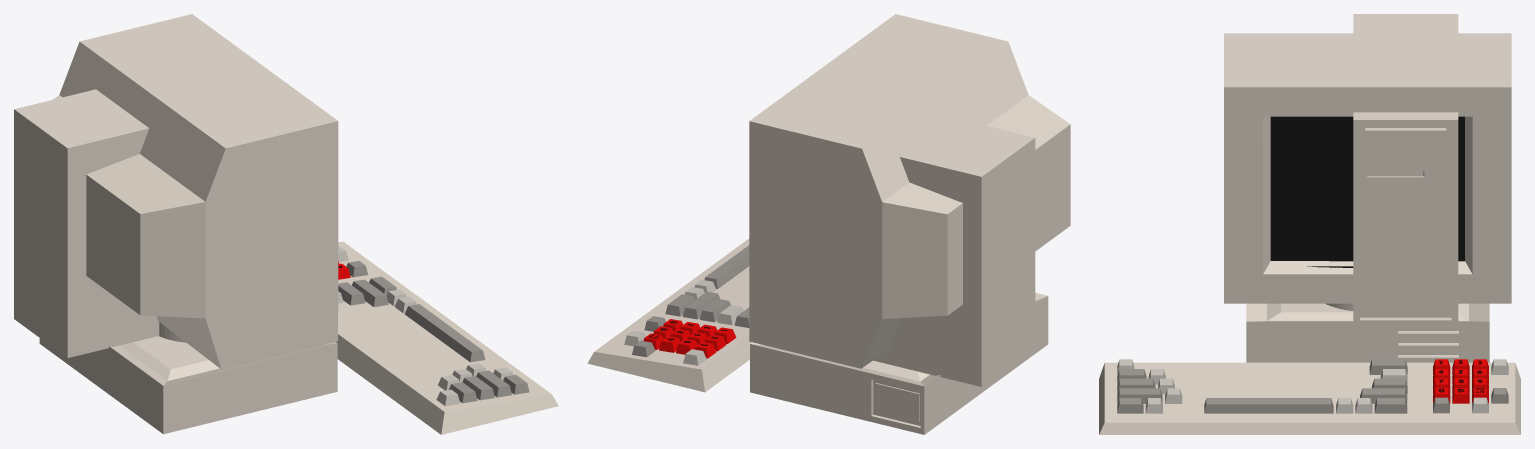
3 views of the same model, side by side, from view 1: azimuth 30°, elevation 25°; view 2: azimuth 150°, elevation 25°; view 3: azimuth 270°, elevation 25° (orthographic).
Visible parts, largest first — view 1: computerscreen, Cube.001, Cube, toprowkeys.008, space, key.004; view 2: computerscreen, Cube.001, Cube, toprowkeys.008, numpad, space, key.004; view 3: computerscreen, Cube.001, toprowkeys.008, Cube, numpad, space, toprowkeys.007, key.004, key.008, key.003, key.007, key.005.
Boxes of the visible parts, x1,y1,x2,y2 form: computerscreen: (53,14,338,369); Cube.001: (14,89,159,358); Cube: (39,336,337,434); toprowkeys.008: (335,241,558,434); space: (404,304,485,362); key.004: (352,279,388,307); computerscreen: (749,14,1070,368); Cube.001: (873,117,1035,386); Cube: (750,292,1048,434); toprowkeys.008: (587,238,751,392); numpad: (643,319,736,358); space: (704,245,749,288); key.004: (682,291,720,319); computerscreen: (1224,33,1511,303); Cube.001: (1353,14,1458,326); toprowkeys.008: (1099,362,1520,434); Cube: (1246,303,1489,362); numpad: (1433,359,1488,403); space: (1204,398,1333,413); toprowkeys.007: (1374,398,1407,413); key.004: (1360,388,1407,403); key.008: (1117,388,1162,403); key.003: (1369,359,1407,374); key.007: (1117,378,1155,393); key.005: (1117,398,1143,413).
Bounding box in the file's own units: 4.42 × 3.29 × 4.54.
Materials: 5 (1 with a texture image).
